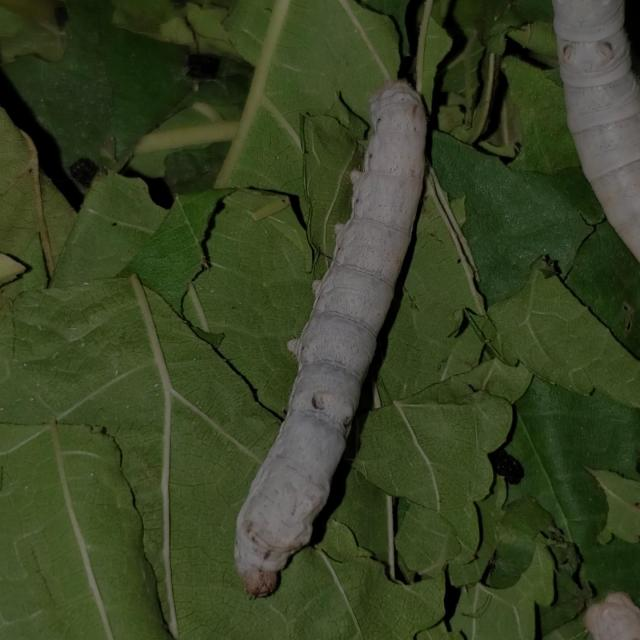Healthy: (215, 67, 436, 614)
